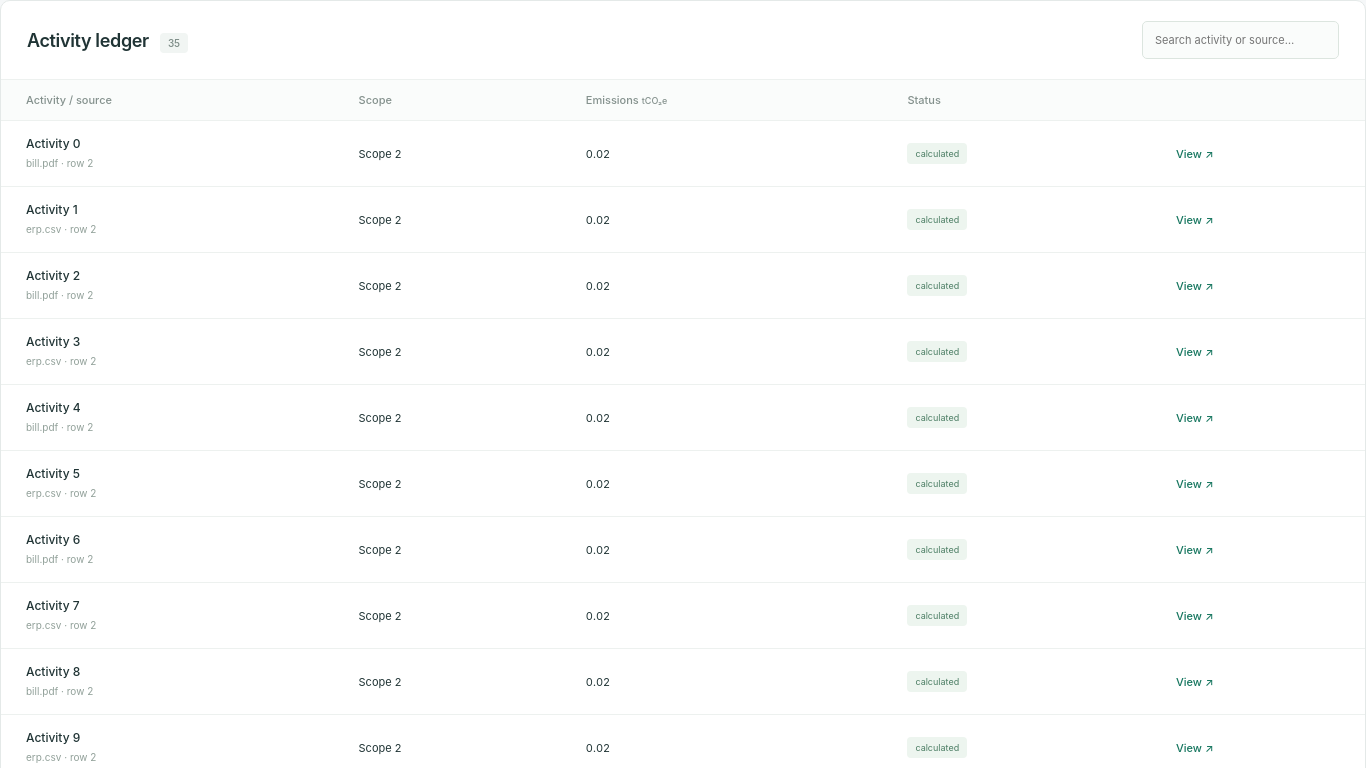
Test: EntryTable › filters by description, source file and status
The image size is (1366, 768).
Type "erp.csv" into the field named "Search activities".
click(1240, 40); type("erp.csv")  # box [1142, 21, 1339, 59]
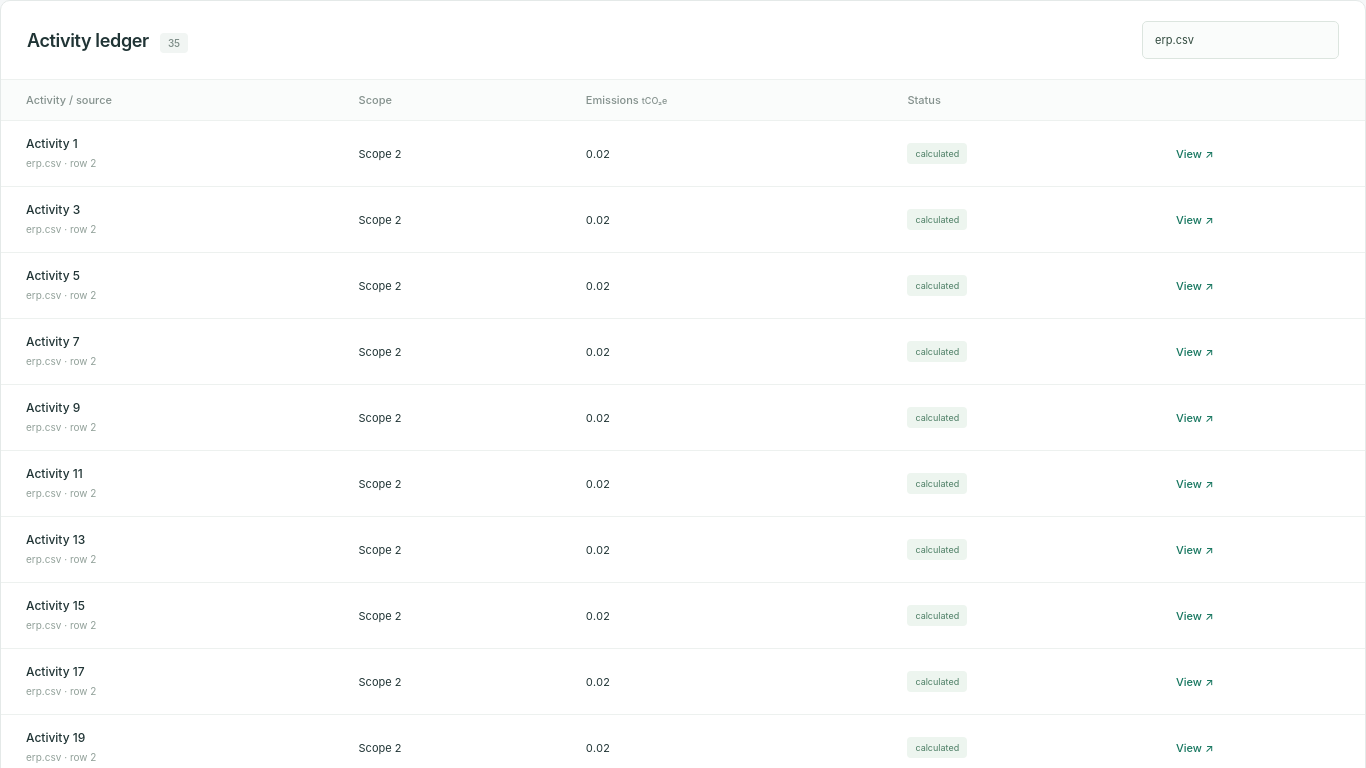
expect the number of rows is 18: met
Replace the text in the field named "Search activities" with "CALCULATED" at (1240, 40), box [1142, 21, 1339, 59]
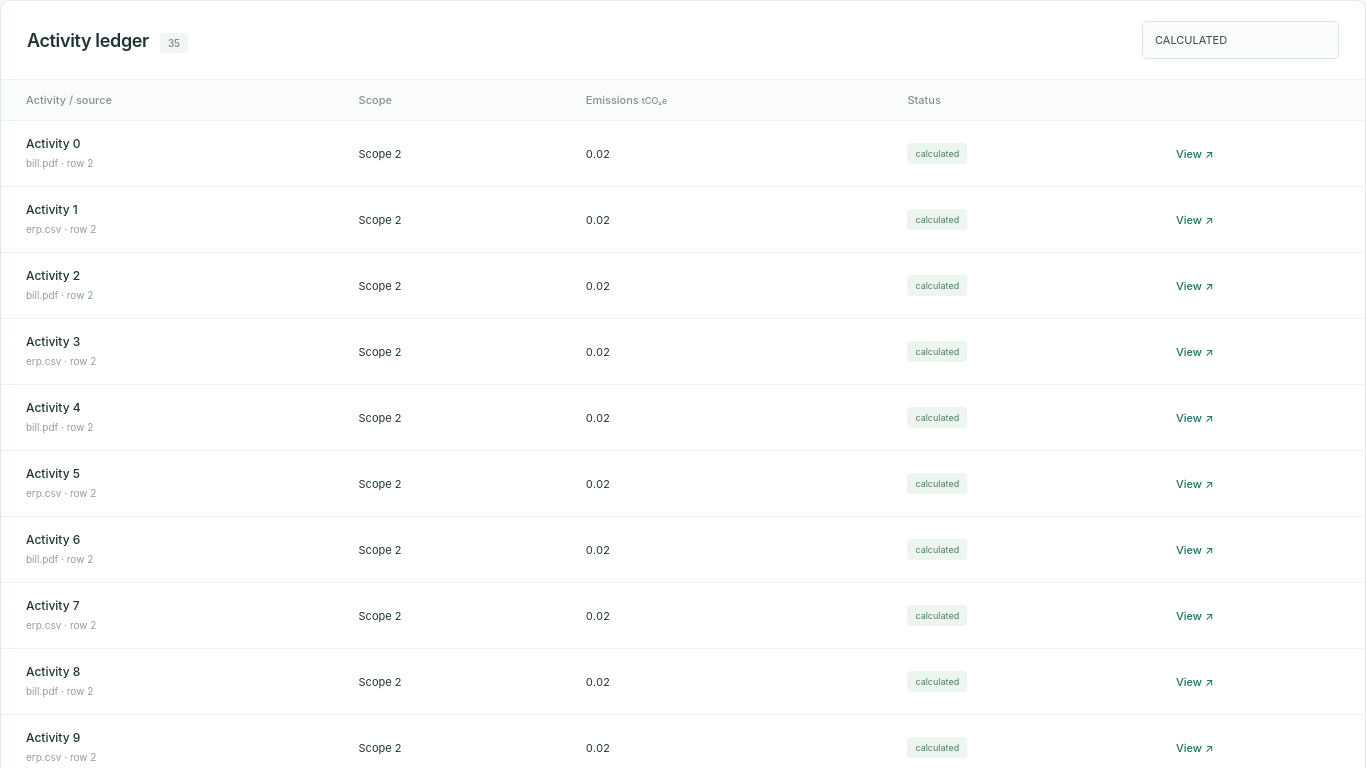
expect the number of rows is 31: met
Replace the text in the field named "Search activities" with "nothing here" at (1240, 40), box [1142, 21, 1339, 59]
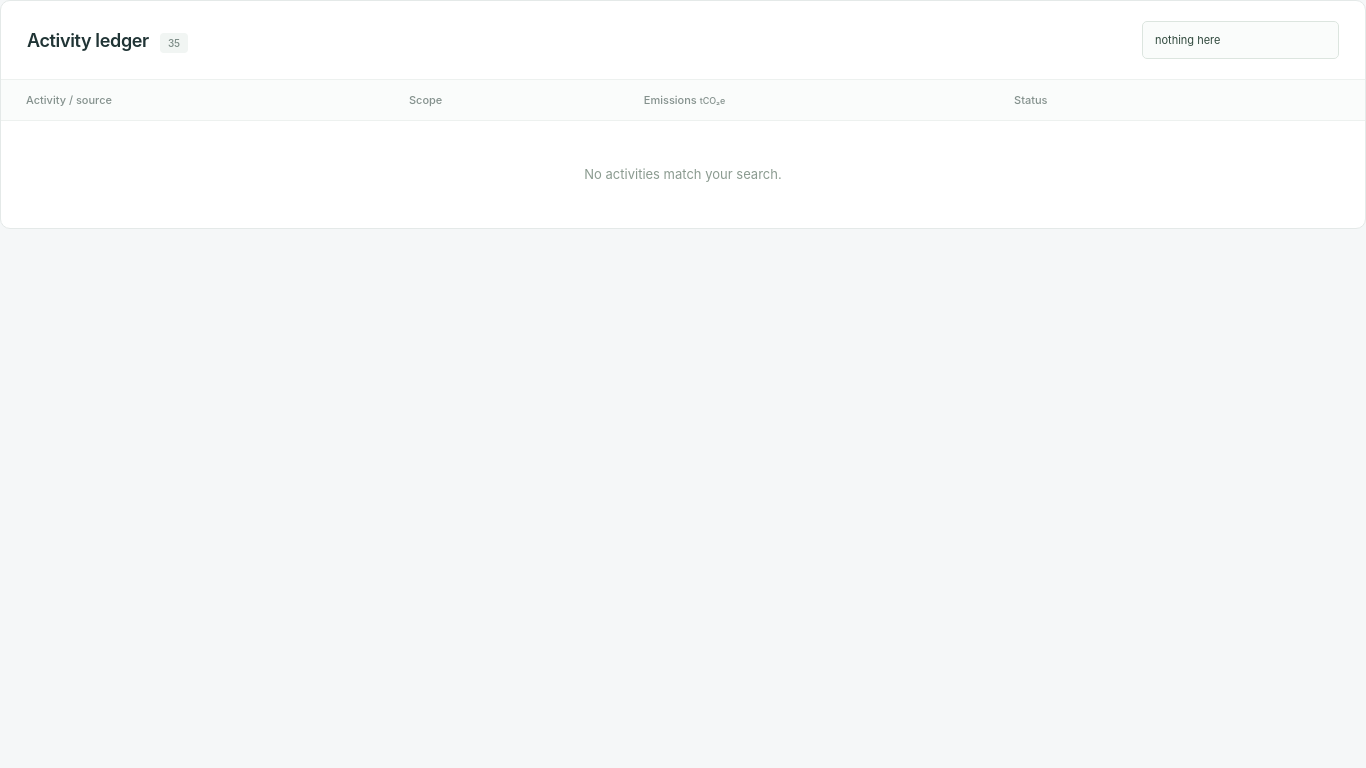
expect the text "No activities match your search." is shown: met, box [584, 166, 782, 182]
